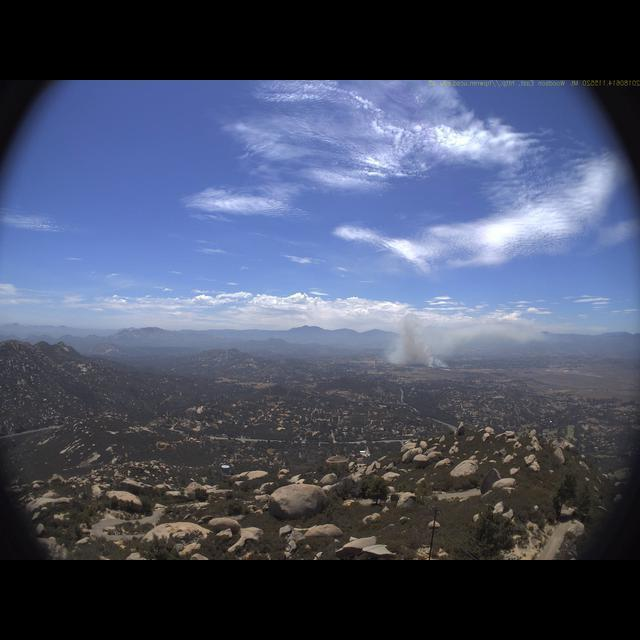Smoke: (384, 307, 549, 370)
